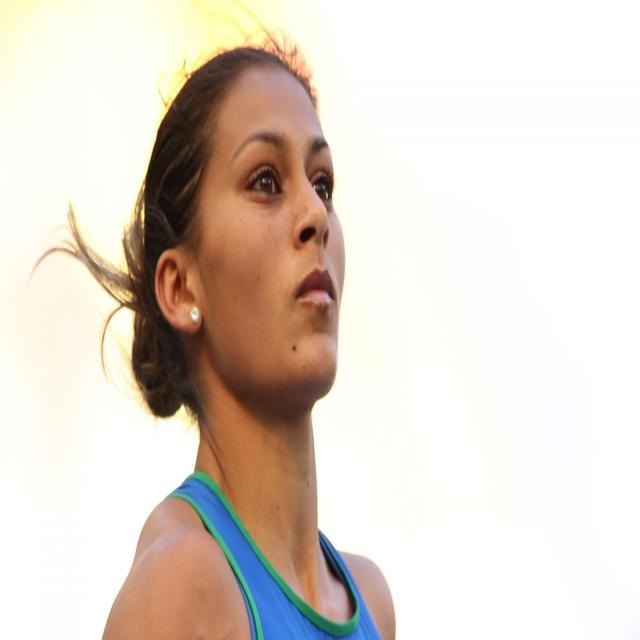no-earmuff: (139, 219, 211, 350)
